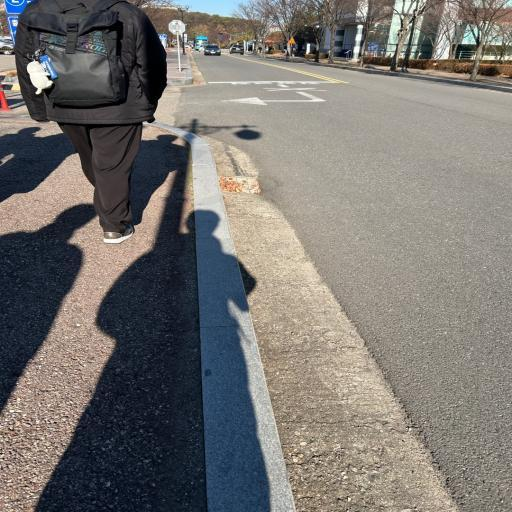debris: (218, 176, 241, 192), (250, 183, 259, 190)
drain: (218, 175, 261, 195)
